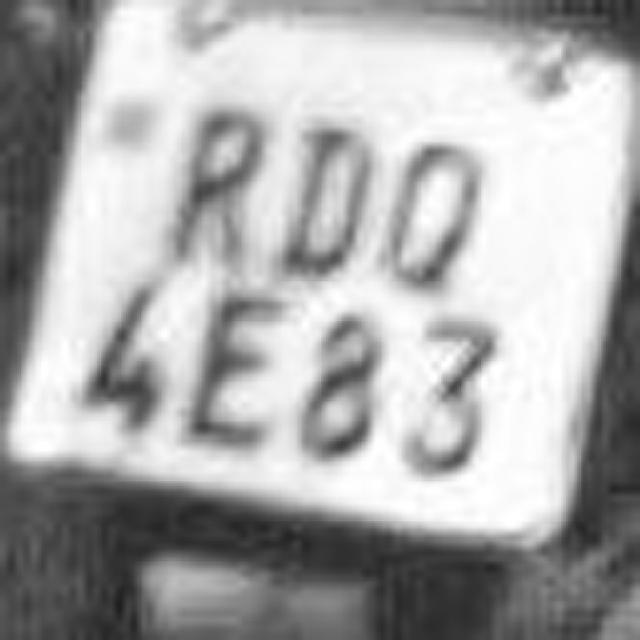3: (344, 284, 544, 504)
4: (65, 245, 180, 440)
8: (260, 272, 425, 492)
E: (164, 269, 304, 456)
O: (364, 104, 508, 311), (255, 92, 400, 296)
R: (160, 96, 285, 276)
